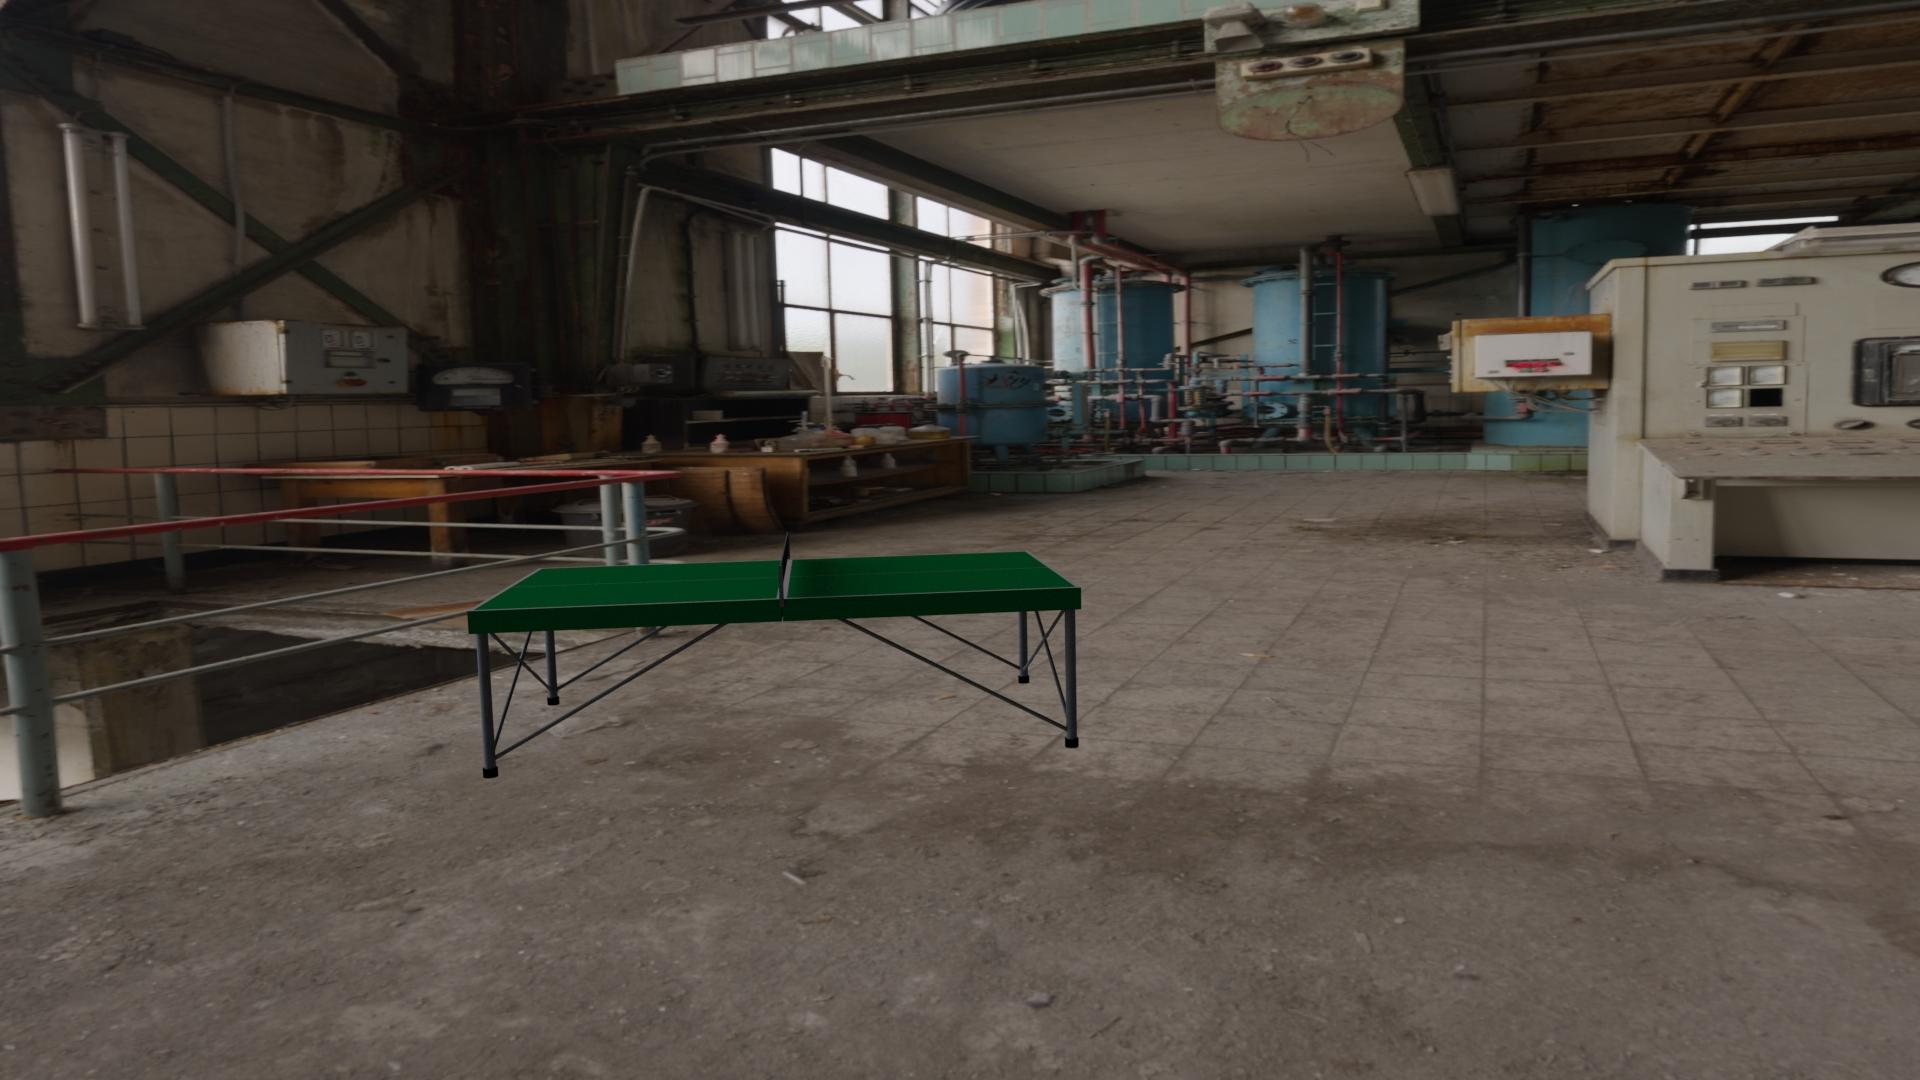table: (473, 551, 1076, 611)
